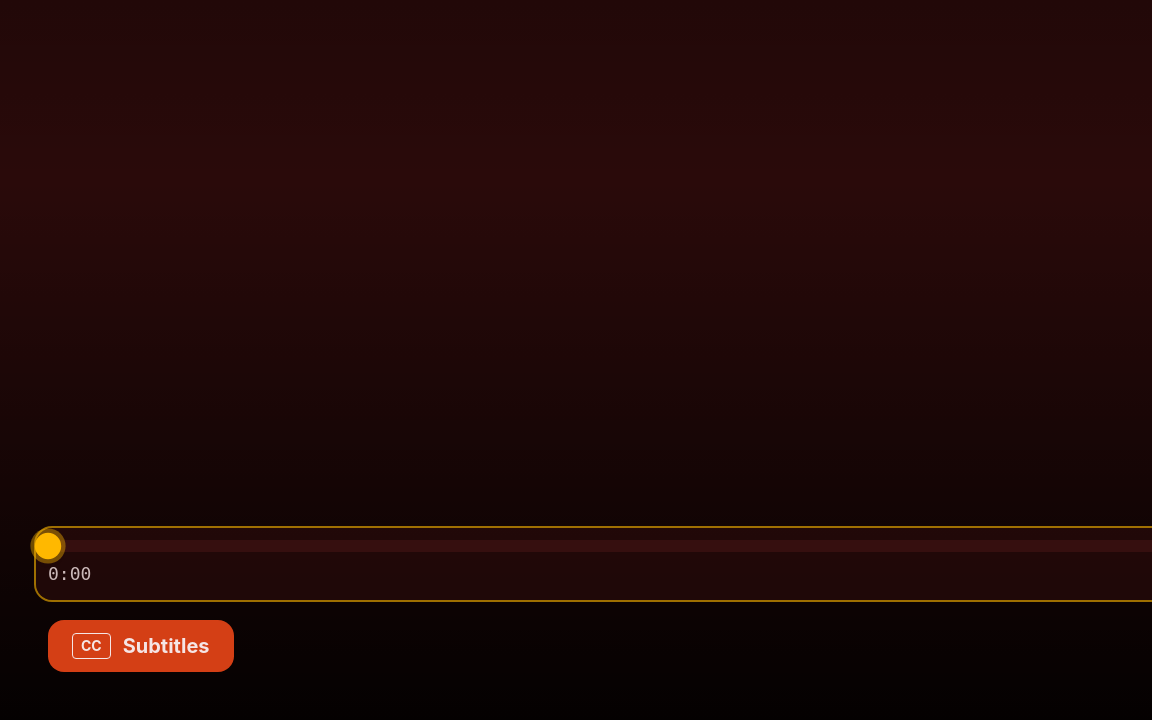
Test: PlayerOSD › Subtitles Menu & OSD Track Selection › calls onSelectSubtitle with track id and closes popup when track is clicked
(page scrolled)
Click the button with test id "subtitles-button": x=141, y=646 [48,620,234,672]
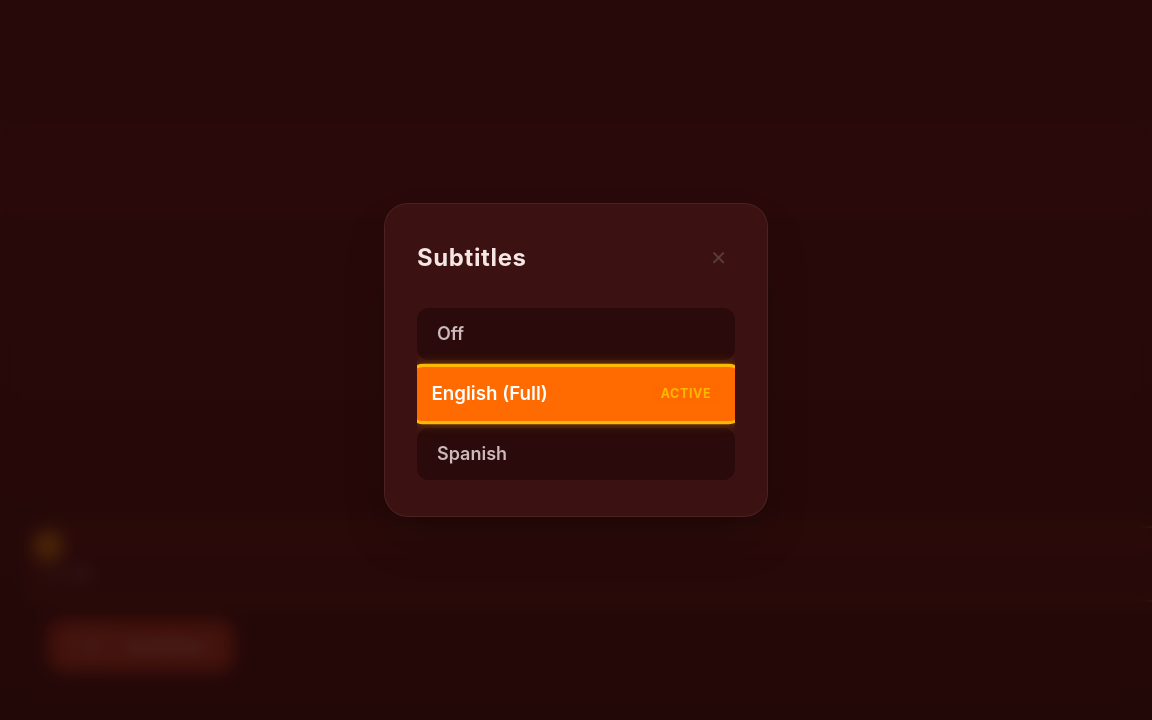
Click the button with test id "subtitle-option-2": x=472, y=454 [417,428,735,480]
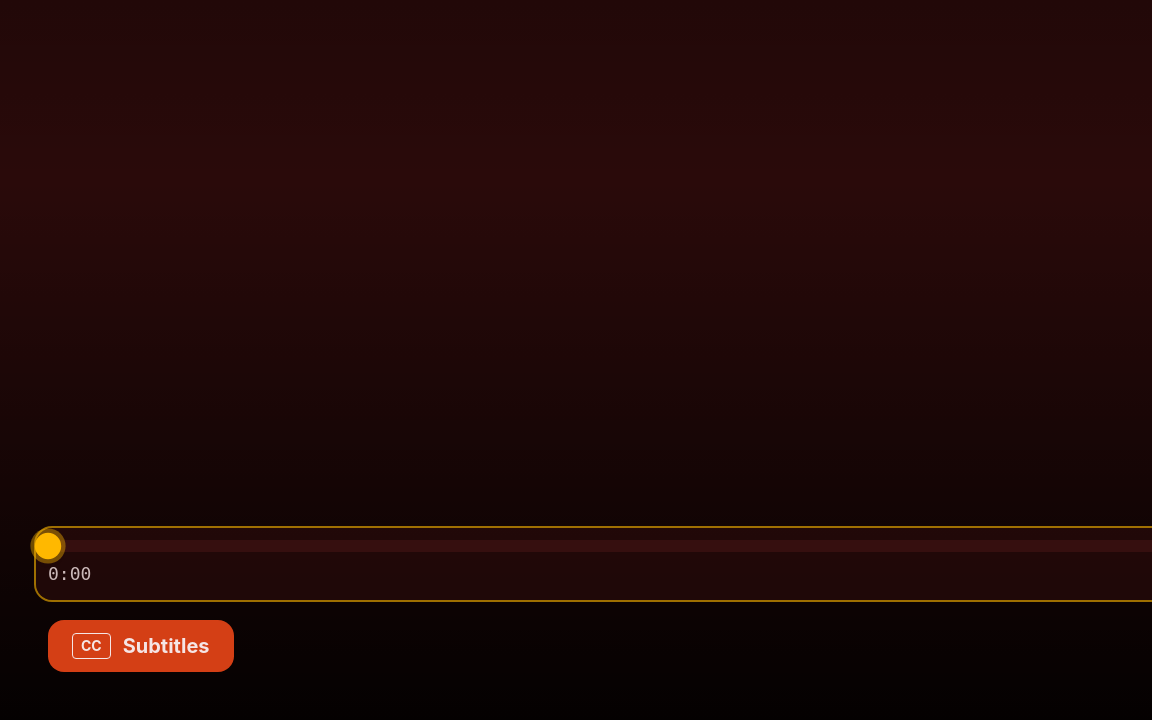
Check: the dialog with test id "subtitles-popup" is gone
